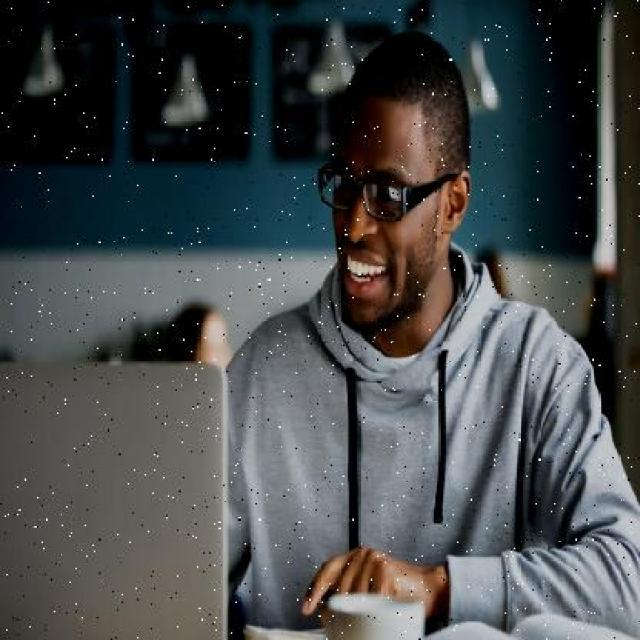mask: (308, 149, 444, 229)
